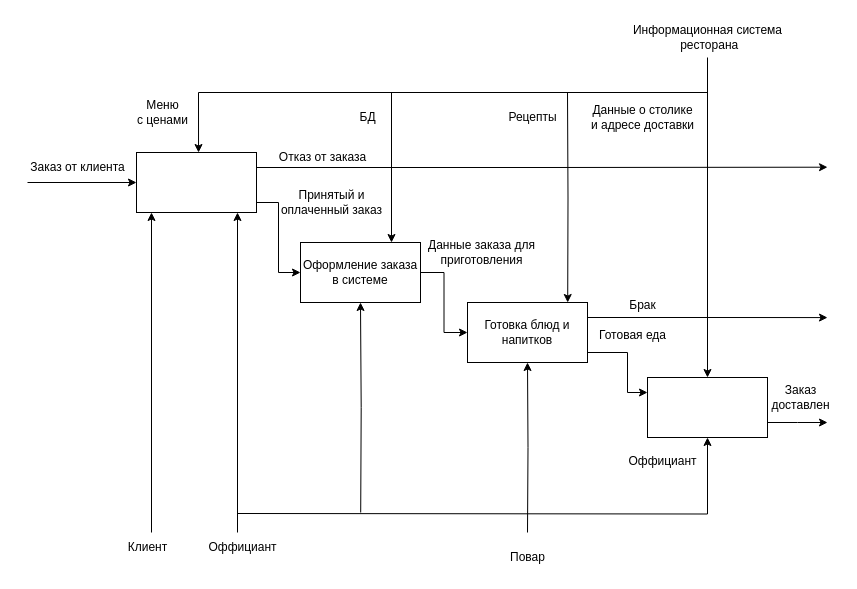
The diagram is 857 pixels wide and 589 high, and some of its shapes have lost their labels. Each missing label, with the centre of its shape:
"Принятие заказа" goes at (x=196, y=182).
"Сервировка стола и доставка заказа" goes at (x=707, y=407).
